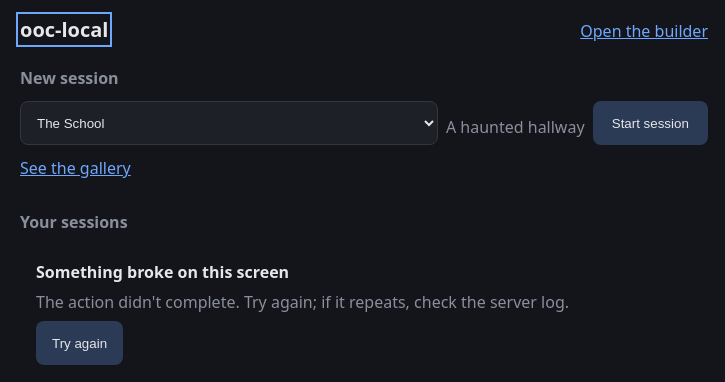
Test case: SessionsScreen › shows an ErrorState with working retry when GET /api/sessions returns 500
Click the button "Try again".
click(80, 343)  # box [36,321,123,365]
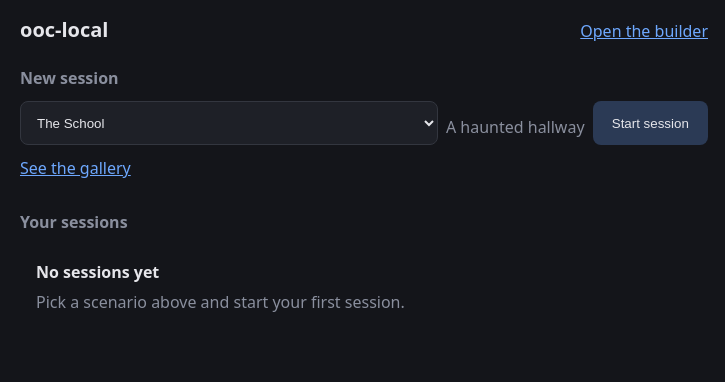
Expected: the text "No sessions yet" is shown, [36,261,159,283]
